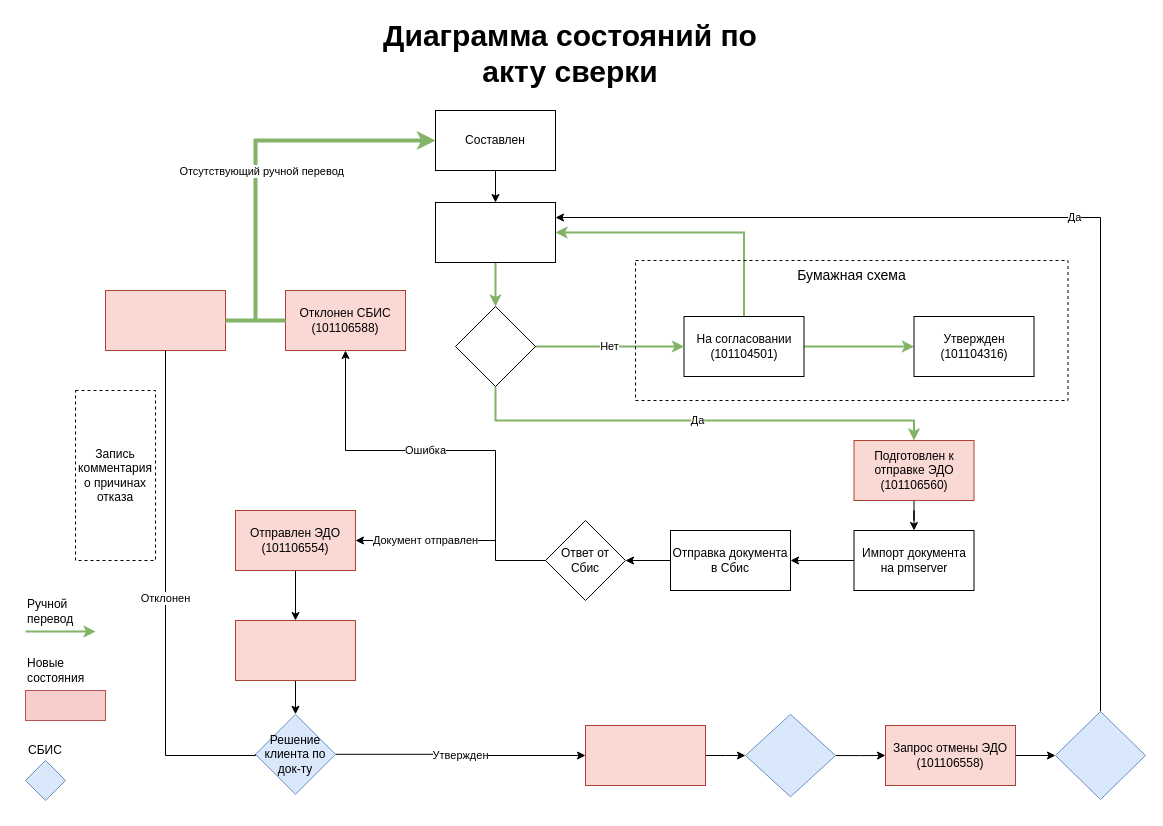
This 1163x826 diagram has some shape labels left out. Here are the shapes that lost their labels. From the top down, the centre of each, then its label:
At (x=495, y=232): "Корректен (101104314)".
At (x=165, y=320): "Отклонен ЭДО (101106552)".
At (x=495, y=346): "Клиент в СБИС?".
At (x=295, y=650): "Доставлен ЭДО (101106590)".
At (x=645, y=755): "Утвержден ЭДО (101106556)".
At (x=790, y=755): "Запрос отмены утверждения".
At (x=1100, y=755): "Подтверждение".
